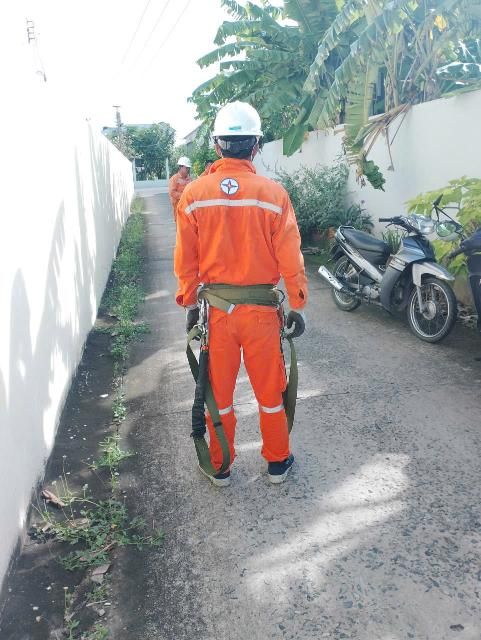harness: (171, 266, 294, 322)
helmet: (206, 92, 276, 151), (176, 155, 195, 169)
shoes: (249, 443, 306, 483), (192, 453, 238, 495)
